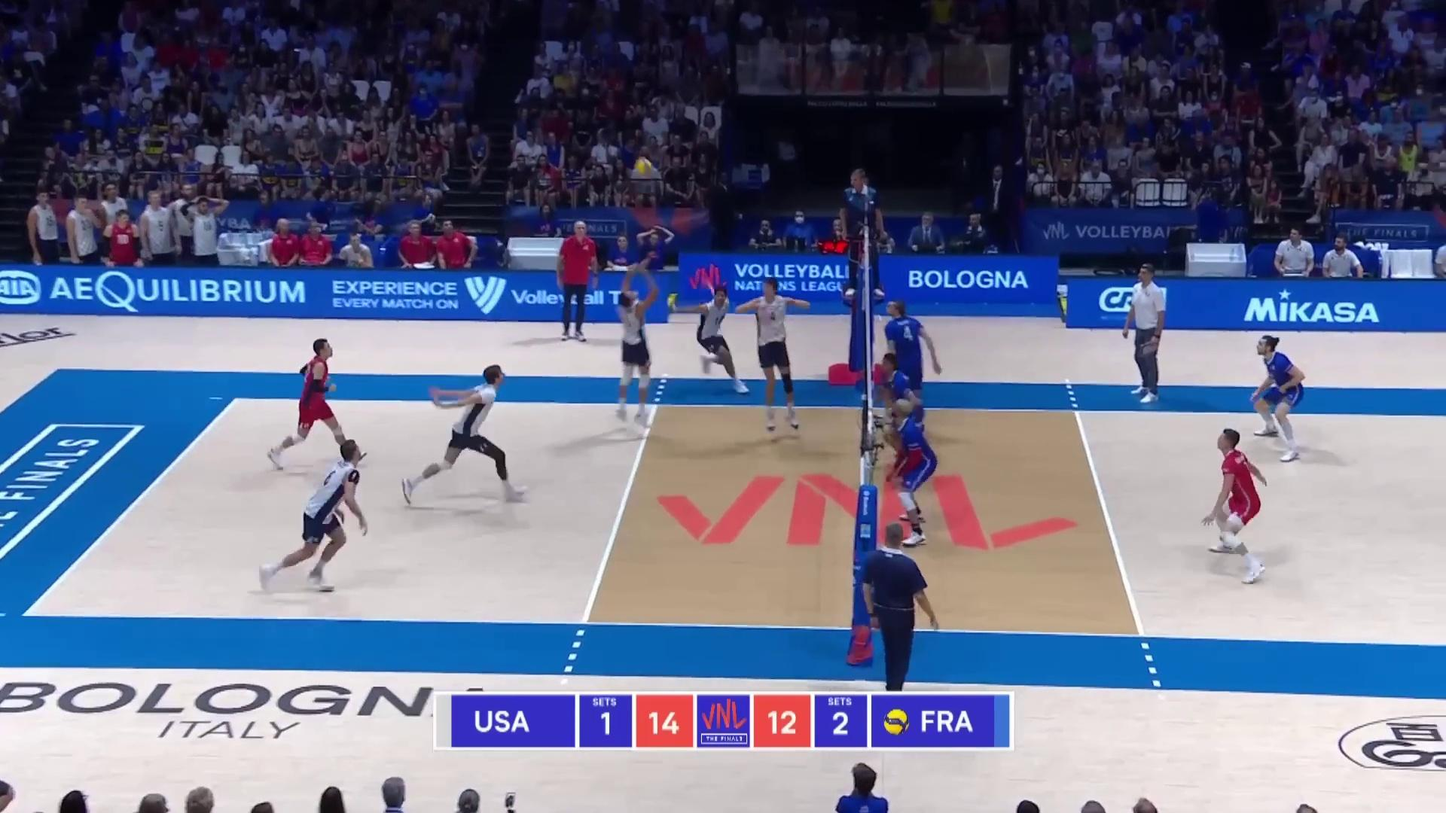player: (404, 368, 529, 510), (263, 443, 369, 596), (1200, 428, 1274, 581), (272, 340, 356, 467), (750, 277, 806, 435), (887, 394, 942, 548), (612, 277, 663, 433), (1250, 336, 1306, 460), (883, 300, 941, 410), (877, 352, 929, 471), (694, 286, 744, 389)
refree: (858, 528, 934, 694), (842, 170, 885, 301)
